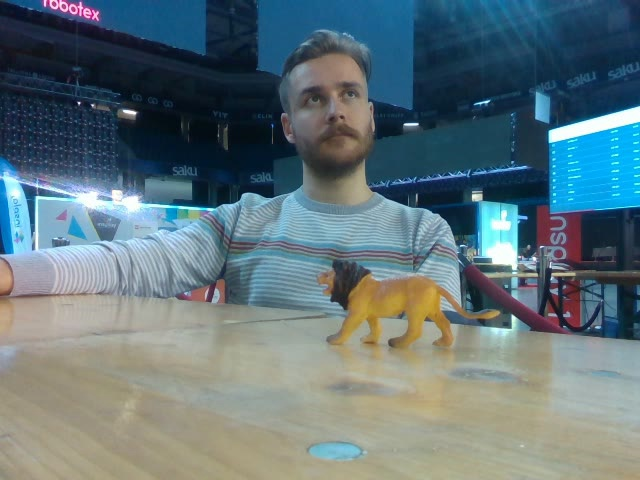toy: (315, 258, 500, 351)
